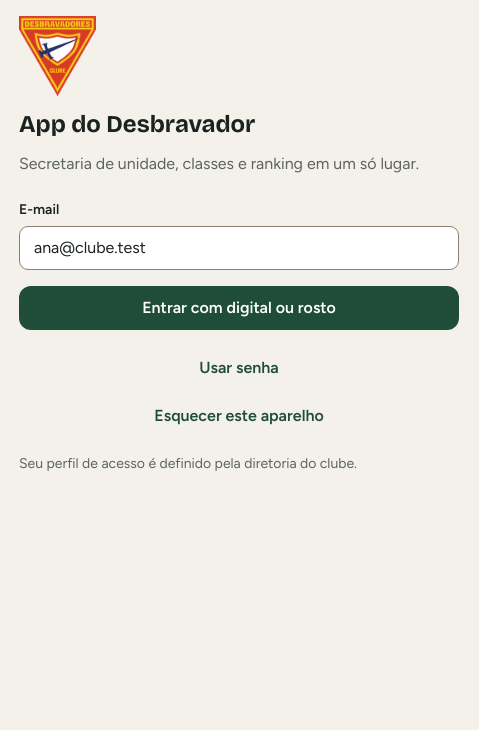
it: login: aparelho com a marca › servidor recusou: mostra a mensagem da API, foca a senha e não mexe na sessão nem na marca
Click the button "Entrar com digital ou rosto" at (239, 308), box [19,286,459,330]
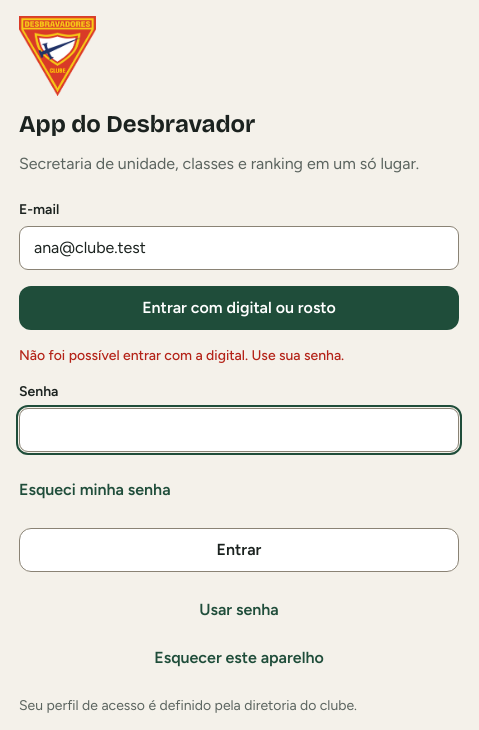
Expected: the text "Não foi possível entrar com a digital. Use sua senha." is shown, [19,347,344,364]
